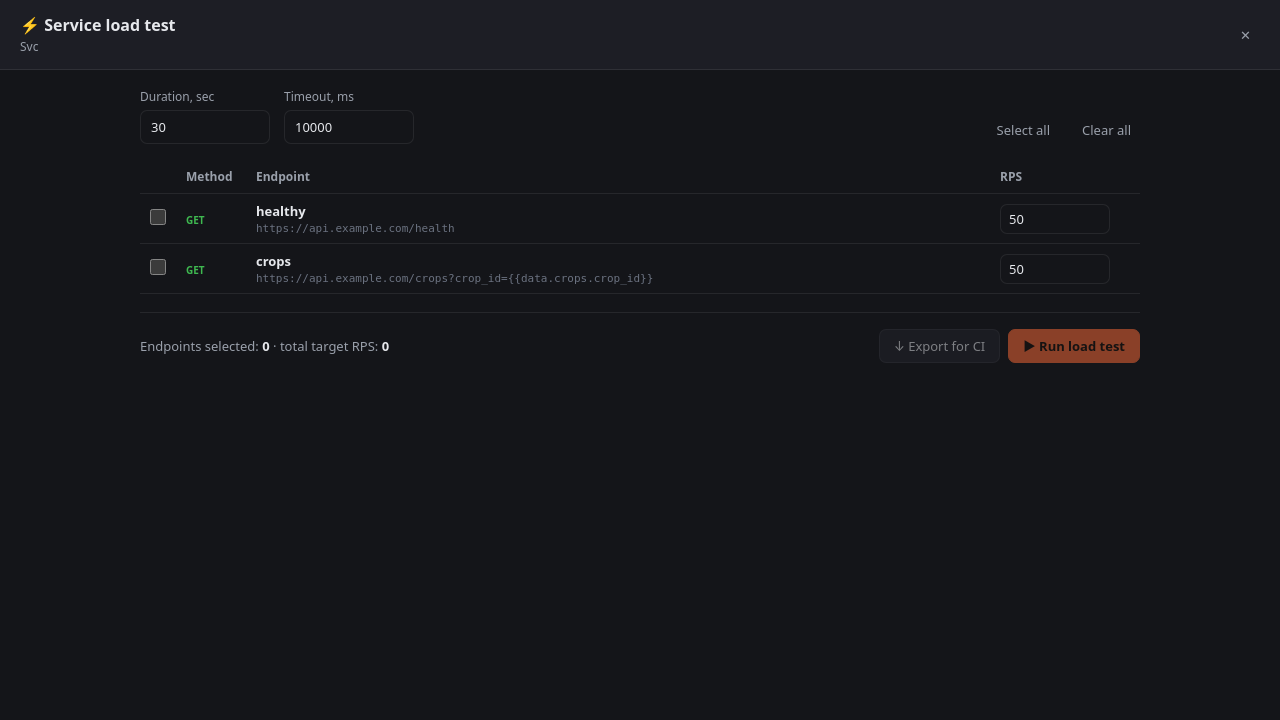
Test: ScenarioPanel inline unset-variables warning › shows the missing vars right when the endpoint is checked
Note: Check the broken endpoint (second row checkbox).
Click the 2nd checkbox: point(158, 266) [150,258,166,274]
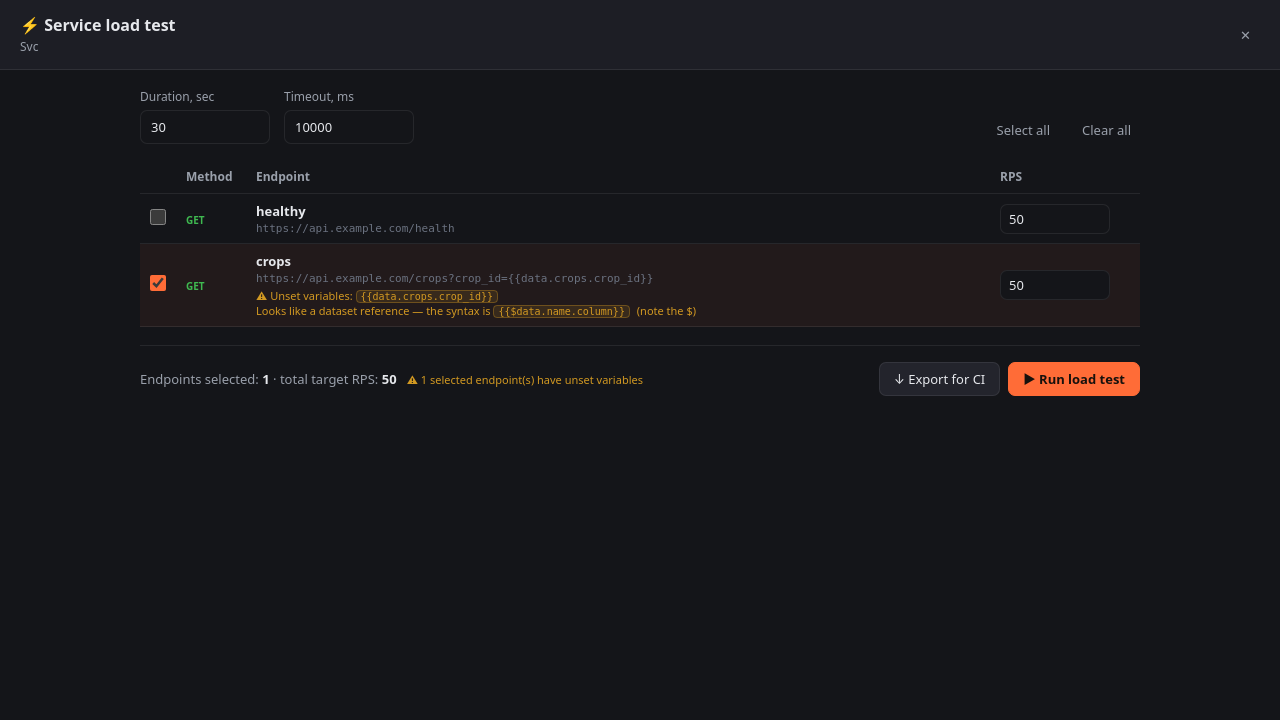
Now the element that starts with "Unset variables" is shown, box [256,288,696,318]
Now the element that starts with "Unset variables" shows "{{data.crops.crop_id}}", box [360,291,493,302]
Now the element that starts with "Unset variables" shows "Looks like a dataset reference", box [256,303,491,318]
